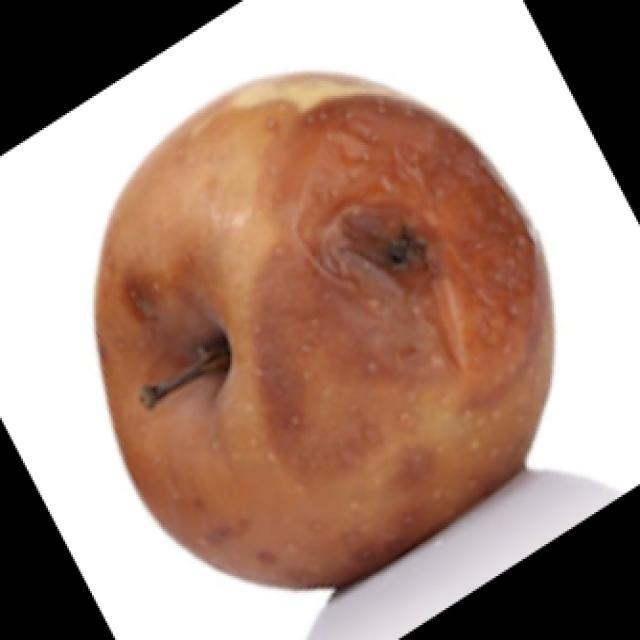Rotten: (105, 80, 538, 593)
